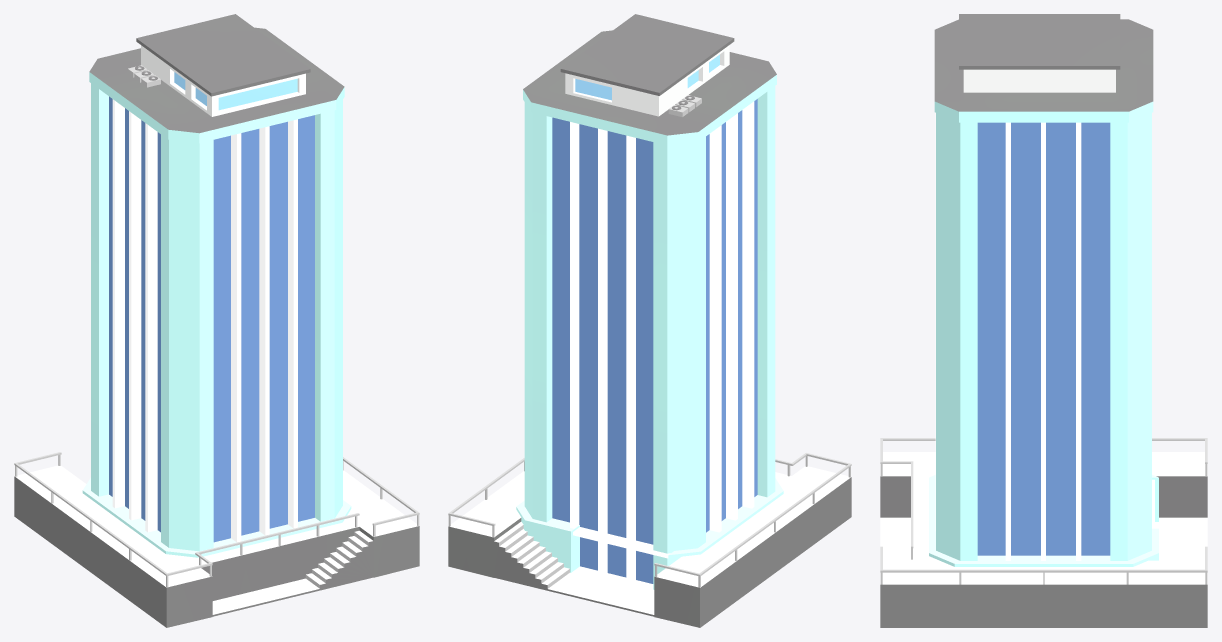
Rendered from tile_for_home_2x2.005 (6).glb.
3 views of the same model, side by side, from view 1: azimuth 30°, elevation 25°; view 2: azimuth 150°, elevation 25°; view 3: azimuth 270°, elevation 25° (orthographic). The views are drawn at different scales.
Visible parts, largest first — view 1: business centers.007; view 2: business centers.007; view 3: business centers.007.
Part boxes in pixels (<box>): business centers.007: <box>14,14,419,627</box>; business centers.007: <box>448,14,851,627</box>; business centers.007: <box>880,14,1207,627</box>.
Bounding box in the file's own units: 14.34 × 26.71 × 14.95.
Materials: 1 (1 with a texture image).
